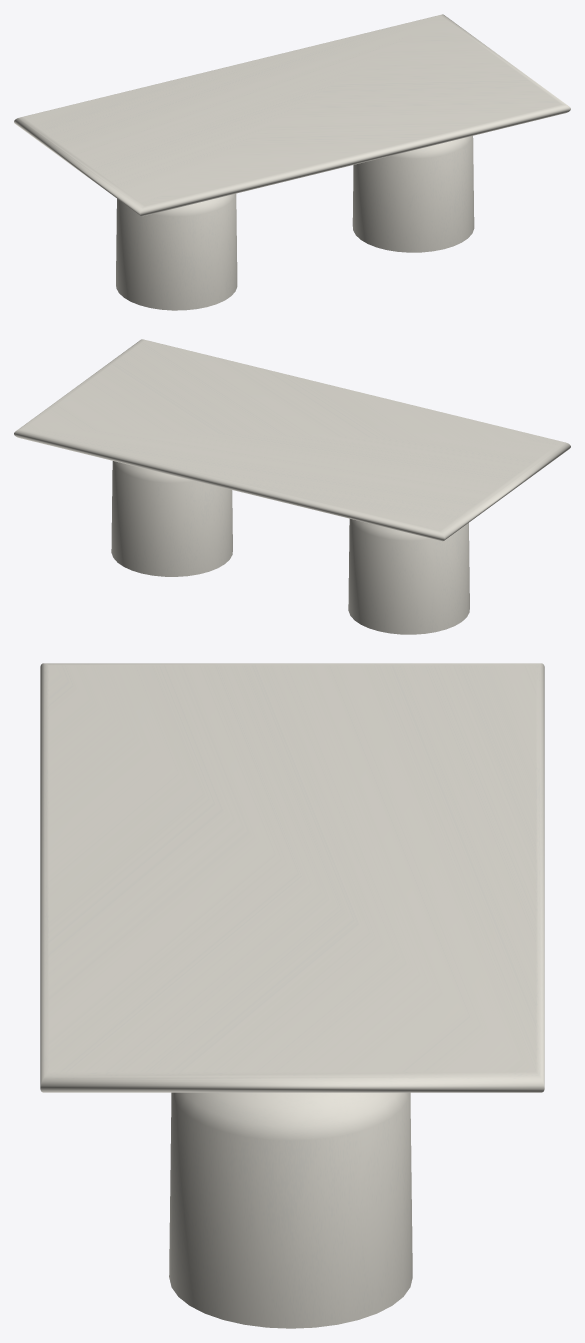
File: pale_recta_round_tornado.glb
The picture shows the model from 3 angles, top to bottom: view 1: azimuth 30°, elevation 25°; view 2: azimuth 150°, elevation 25°; view 3: azimuth 270°, elevation 25°; orthographic projection. The views are drawn at different scales.
Visible parts, largest first — view 1: round_recta, tornado; view 2: round_recta, tornado; view 3: round_recta, tornado.
Part boxes in pixels (box(x1,y1,x2,y2)): round_recta: box(14, 14, 570, 216); tornado: box(116, 136, 474, 310); round_recta: box(14, 339, 570, 541); tornado: box(111, 461, 469, 634); round_recta: box(40, 663, 544, 1092); tornado: box(169, 1092, 412, 1328).
Size of the model in its own units: 7.76 by 2.5 by 3.93.
Materials: 1 (1 with a texture image).
